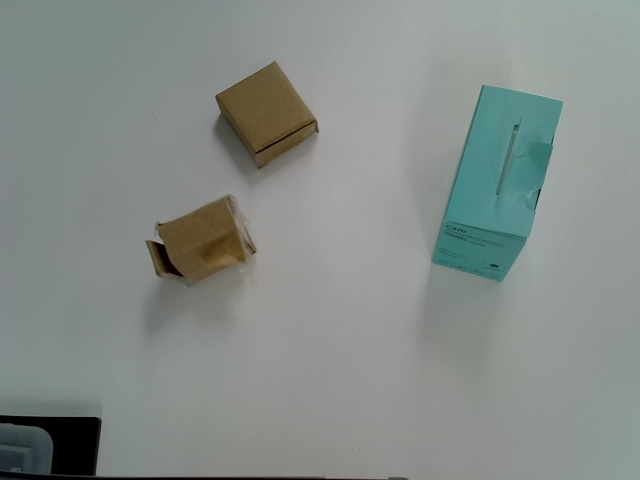defect: (145, 195, 258, 286)
normal: (215, 60, 320, 169)
